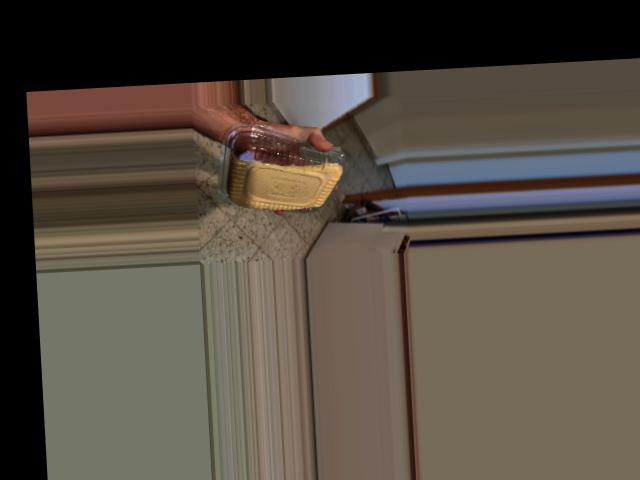cheese: (209, 144, 319, 203)
